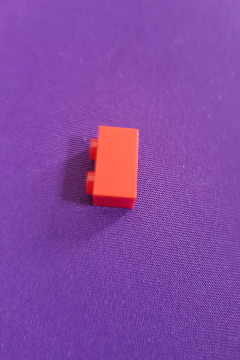1x2 red: (84, 125, 140, 209)
